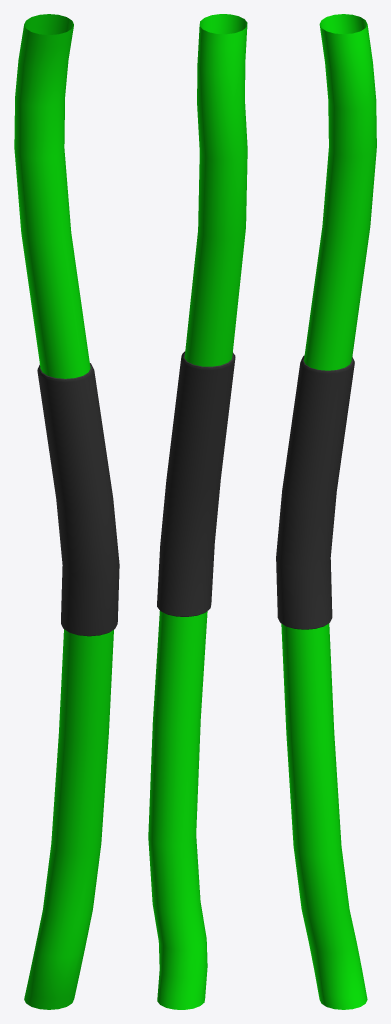
File: wire_repaired_3.gltf
The picture shows the model from 3 angles, left to right: view 1: azimuth 90°, elevation 25°; view 2: azimuth 210°, elevation 25°; view 3: azimuth 270°, elevation 25°; orthographic projection. The views are drawn at different scales.
Parts seen in each view (by area): view 1: wire_fixed_3c; view 2: wire_fixed_3c; view 3: wire_fixed_3c.
Part boxes in pixels (left/top/right/bottom): wire_fixed_3c: left=14, top=14, right=119, bottom=1009; wire_fixed_3c: left=148, top=14, right=247, bottom=1009; wire_fixed_3c: left=276, top=14, right=376, bottom=1009.
Bounding box in the file's own units: 0.1432 × 1.56 × 0.1498.
